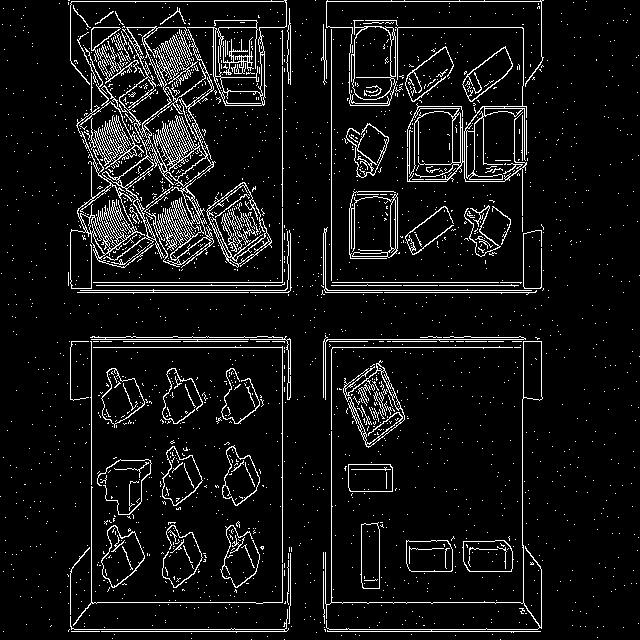Battery: (462, 46, 512, 101), (405, 46, 454, 102), (405, 205, 453, 255), (462, 540, 512, 572), (361, 522, 384, 588), (406, 540, 454, 571), (345, 464, 392, 494)
Pump: (71, 12, 156, 108), (142, 9, 212, 115), (78, 102, 154, 186), (78, 186, 154, 268), (206, 182, 271, 270), (344, 361, 406, 448), (151, 111, 214, 186), (151, 191, 212, 268), (465, 106, 525, 181), (214, 20, 265, 106), (408, 106, 462, 181), (349, 20, 396, 106), (349, 191, 398, 258)
Regulator: (96, 458, 151, 516), (99, 368, 151, 429), (162, 522, 206, 589), (160, 441, 202, 509), (99, 525, 145, 587), (216, 368, 264, 424), (464, 201, 511, 258), (221, 521, 259, 591), (222, 442, 260, 506), (163, 368, 206, 424), (345, 122, 389, 176), (102, 564, 124, 588)
